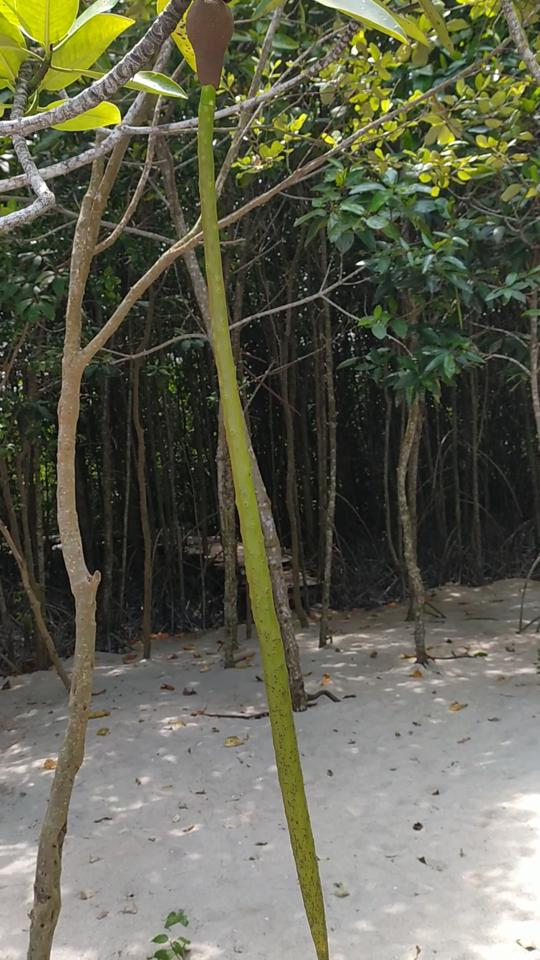mentah: (167, 1, 349, 958)
